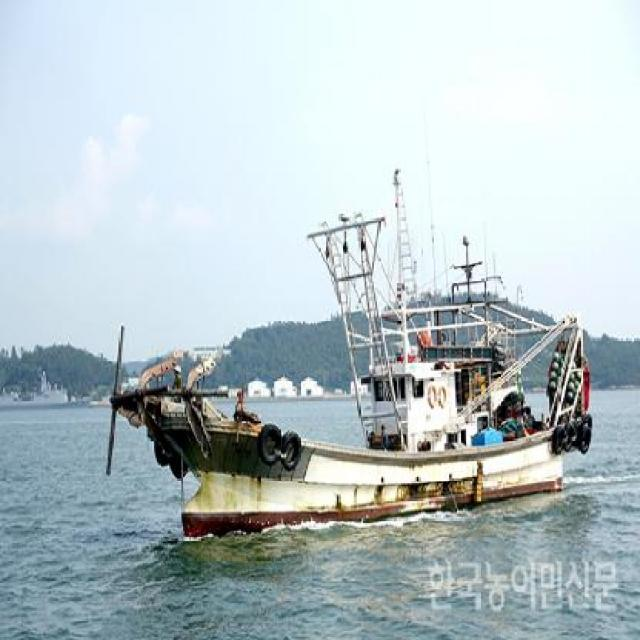Ship: (106, 191, 602, 542)
